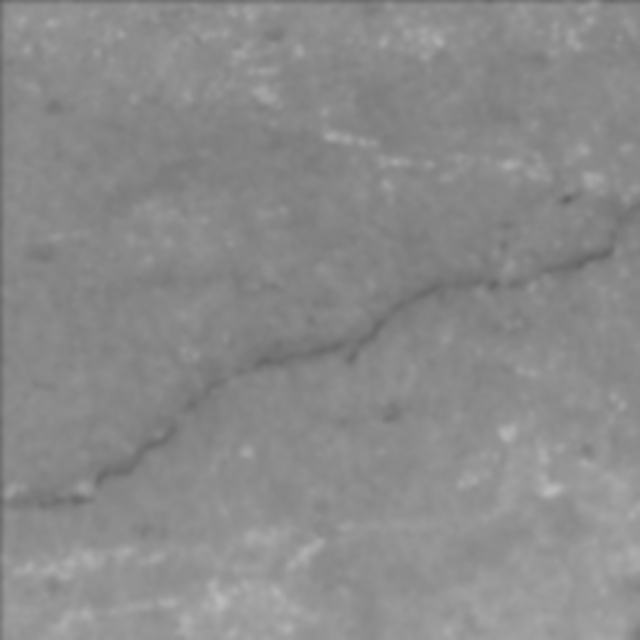SurfaceCrack: (0, 122, 639, 577)
